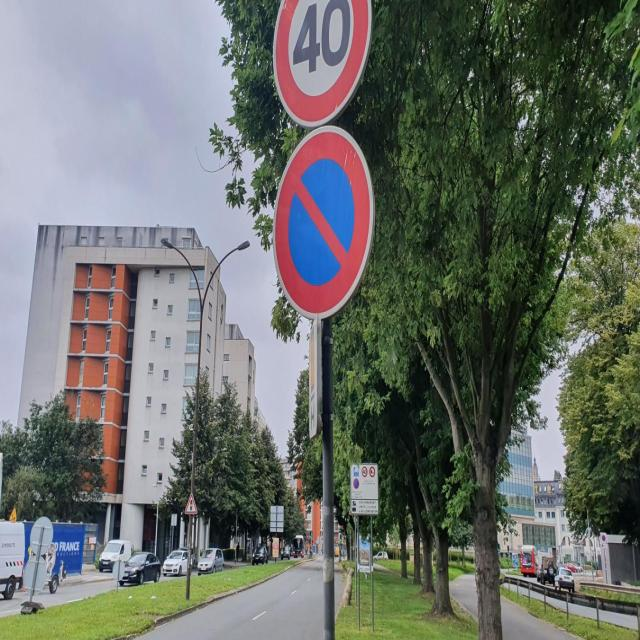speed: (272, 1, 376, 124)
